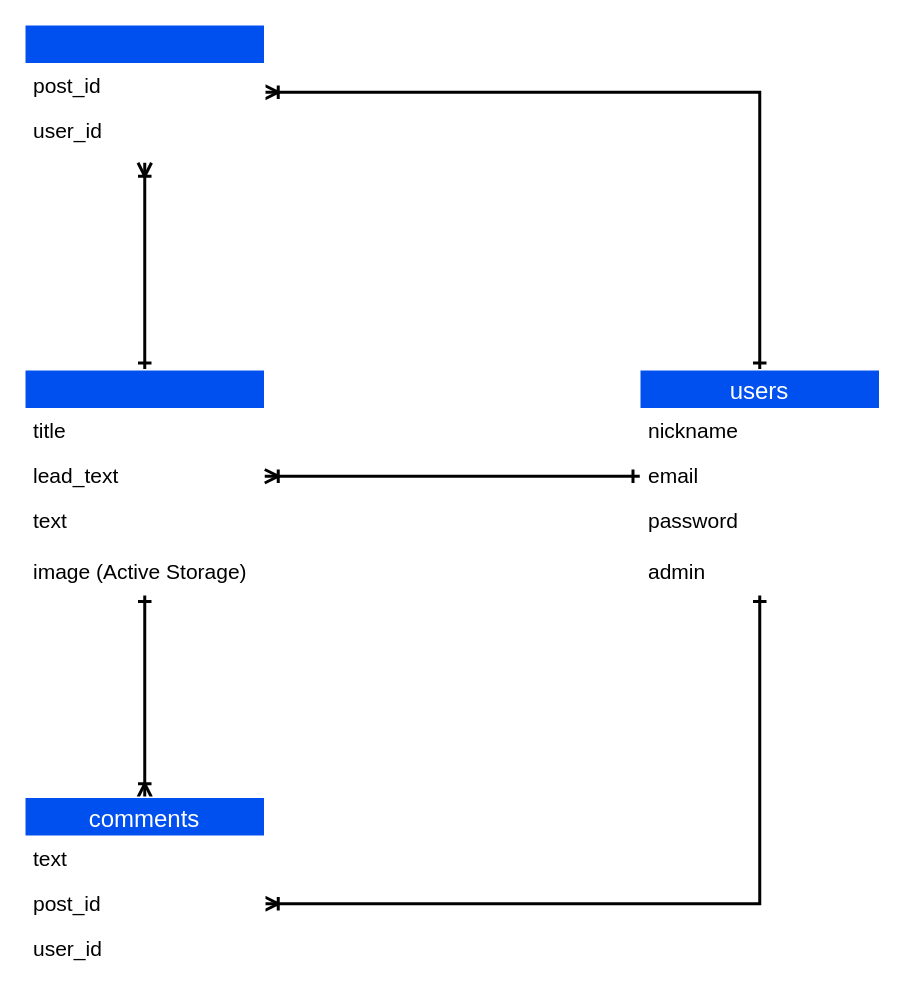
Some shapes in this 905 by 1002 pixel diagram are drawn without their labels. Here are the shapes that lost their labels. From the top down, the box of each, then its label:
(23, 23, 265, 160): likes
(23, 368, 265, 595): posts
